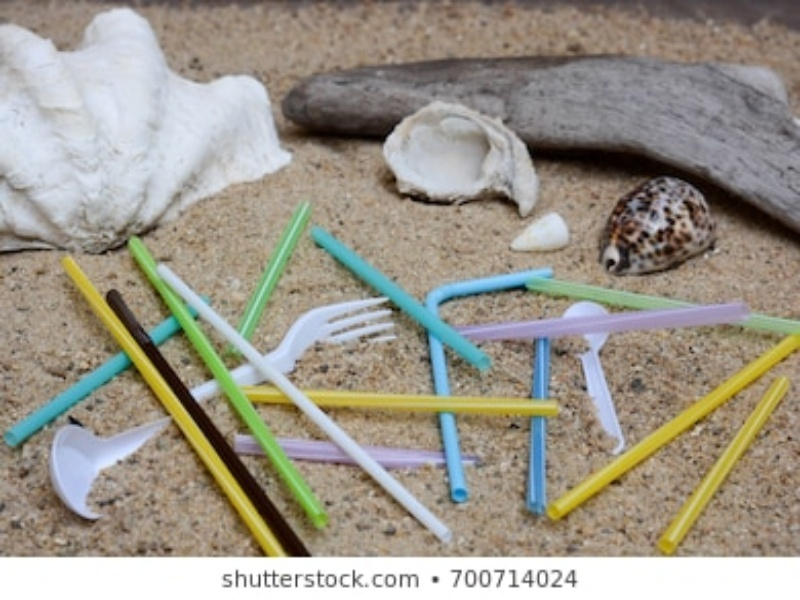plastic-silverware: (177, 290, 399, 406), (48, 421, 178, 520), (558, 296, 634, 457)
straw: (152, 264, 458, 543), (57, 253, 288, 559), (127, 233, 329, 531), (108, 287, 315, 554), (549, 337, 799, 516), (3, 292, 212, 453), (428, 266, 560, 501), (307, 229, 494, 371), (659, 373, 792, 548), (523, 275, 798, 333), (231, 198, 315, 368), (241, 382, 564, 422), (228, 429, 483, 465)
